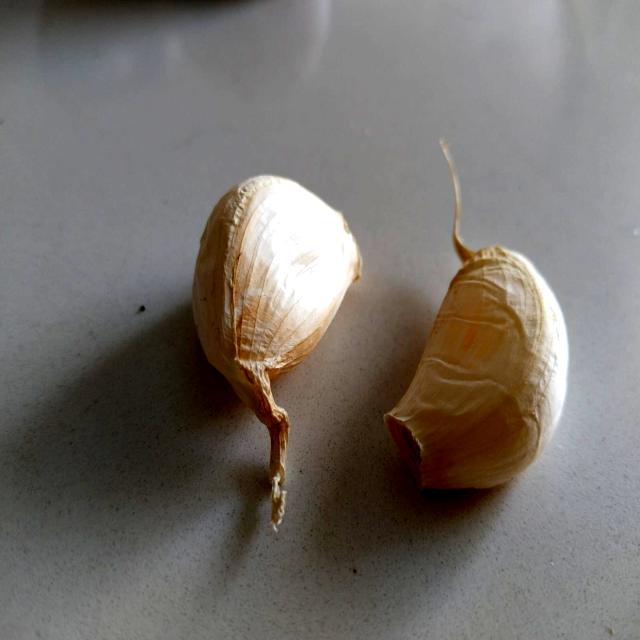garlic: (373, 186, 595, 506), (162, 146, 376, 418)
